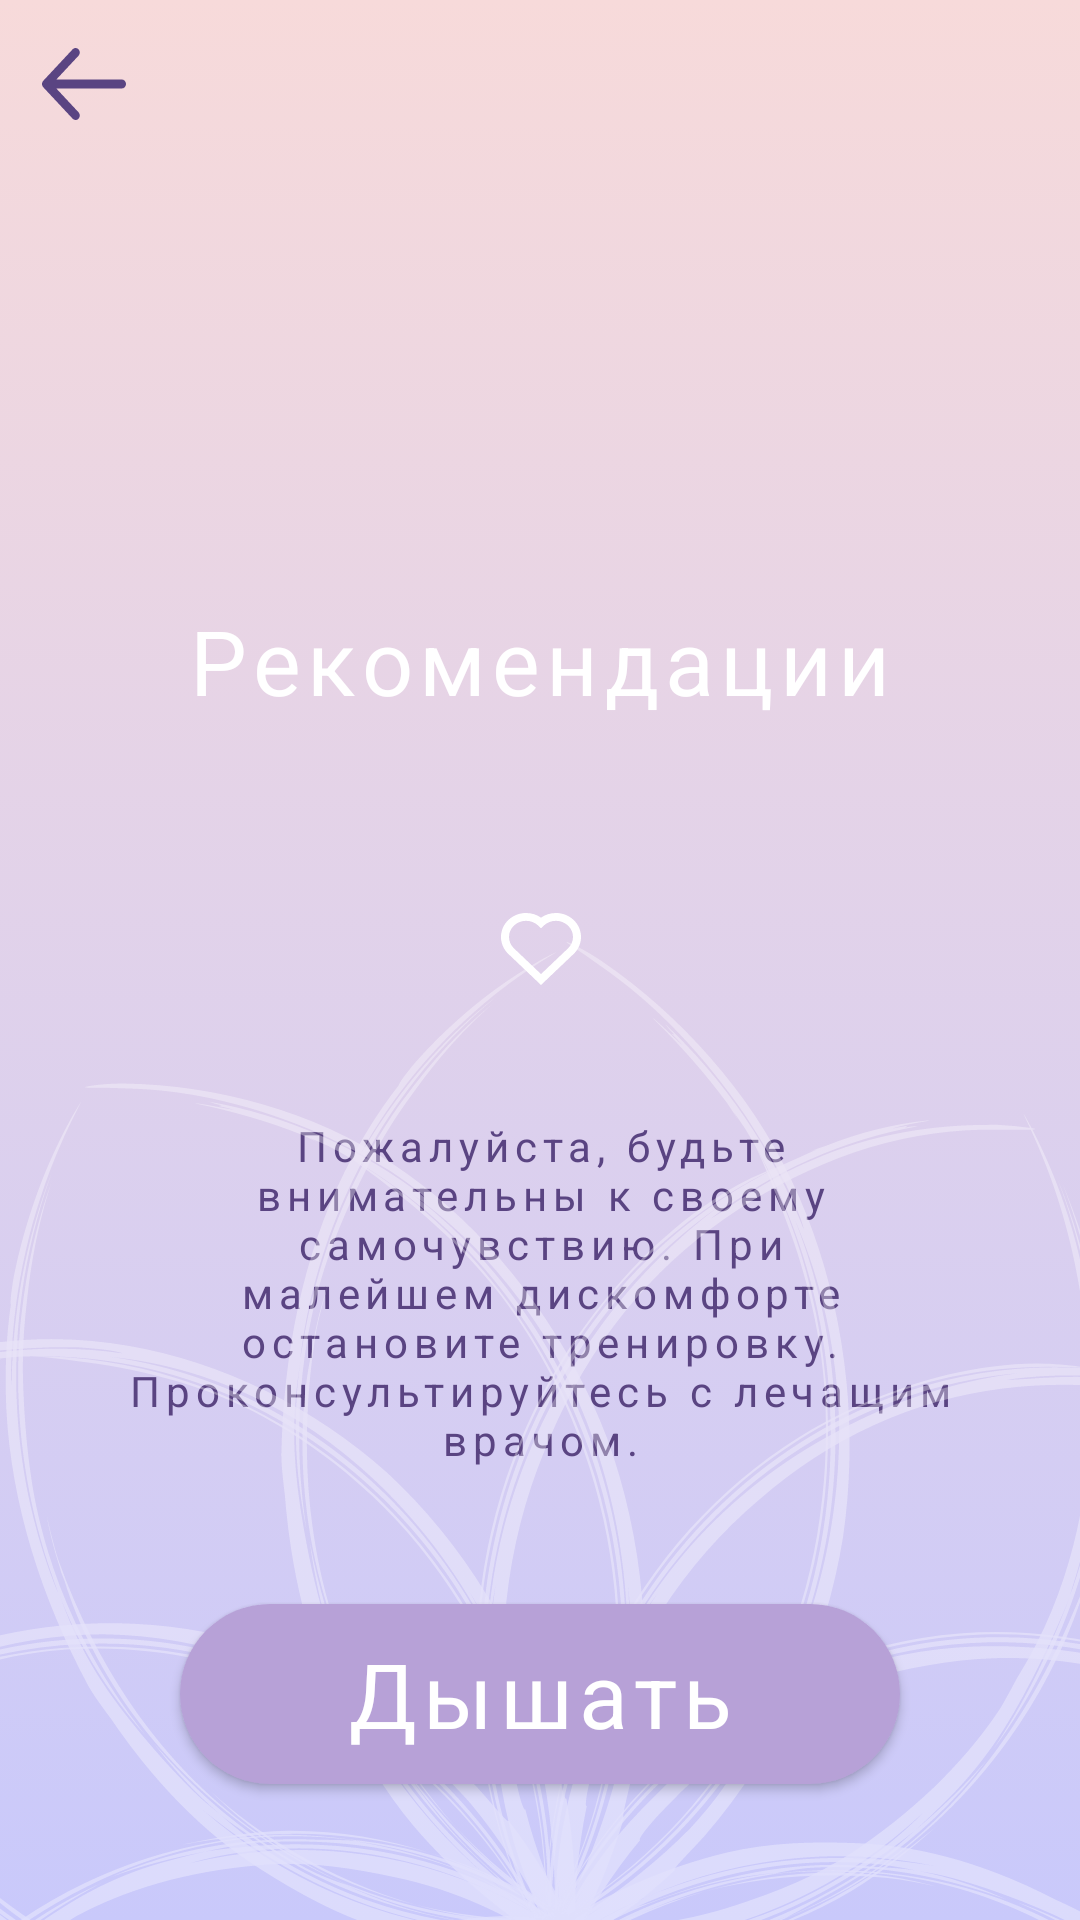

Icon bounding boxes for this 1080*1920 phone screenshot, format (x1, y1, x2, y2):
heart: (501, 913, 581, 985)
